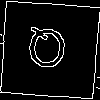Q: (24, 25, 69, 77)
